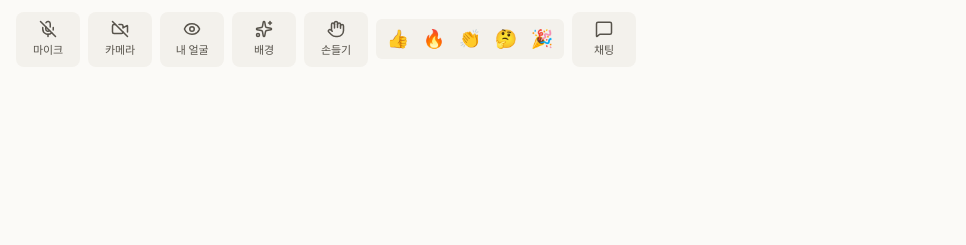
it: MeetRoom › 수신 채팅 → decodeLiveMessage → identity로 작성자 매핑해 표시(R3)
Click the button "채팅": (604, 39) [572,12,636,66]
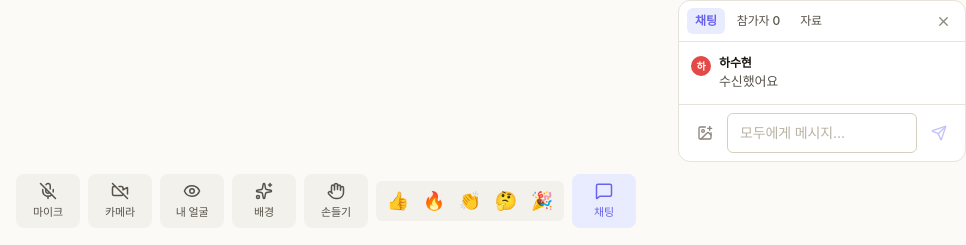
expect the text "수신했어요" is shown: met, box [719,72,778,92]
expect the text "하수현" is shown: met, box [719,55,752,70]
